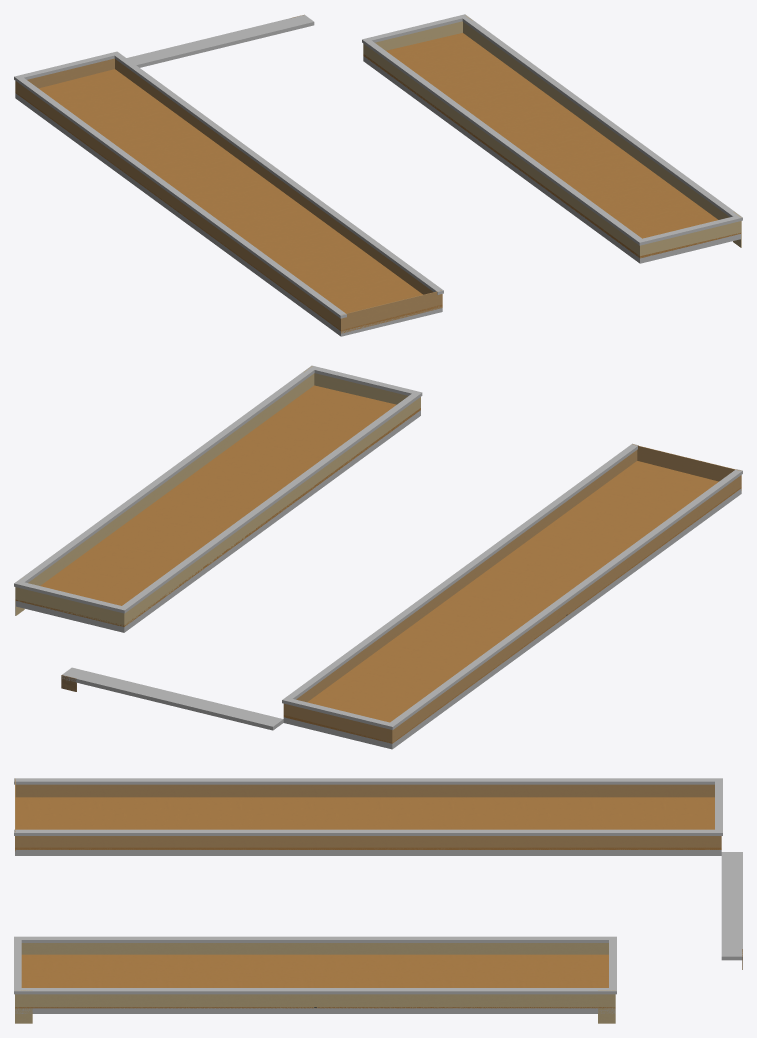
Rendered from roof-bundle-service-south.glb.
The picture shows the model from 3 angles, top to bottom: view 1: azimuth 30°, elevation 25°; view 2: azimuth 150°, elevation 25°; view 3: azimuth 270°, elevation 25°; orthographic projection. The views are drawn at different scales.
Parts seen in each view (by area): view 1: bz06_faded_ochre-receive, ph_bz04_stone_trim_sandstone-cast, bz06_sand_plaster-cast, bz06_pale_lime-cast; view 2: bz06_faded_ochre-receive, ph_bz04_stone_trim_sandstone-cast, bz06_sand_plaster-cast, bz06_pale_lime-cast; view 3: bz06_faded_ochre-receive, ph_bz04_stone_trim_sandstone-cast, bz06_sand_plaster-cast, bz06_pale_lime-cast.
Boxes of the visible parts, left/top/right/bottom form: bz06_faded_ochre-receive: left=15, top=33, right=740, bottom=330; ph_bz04_stone_trim_sandstone-cast: left=14, top=14, right=742, bottom=336; bz06_sand_plaster-cast: left=15, top=58, right=442, bottom=333; bz06_pale_lime-cast: left=363, top=15, right=741, bottom=257; bz06_faded_ochre-receive: left=15, top=385, right=741, bottom=743; ph_bz04_stone_trim_sandstone-cast: left=14, top=365, right=742, bottom=749; bz06_sand_plaster-cast: left=283, top=444, right=741, bottom=743; bz06_pale_lime-cast: left=15, top=366, right=420, bottom=626; bz06_faded_ochre-receive: left=15, top=797, right=721, bottom=1008; ph_bz04_stone_trim_sandstone-cast: left=14, top=778, right=742, bottom=1013; bz06_sand_plaster-cast: left=15, top=778, right=721, bottom=851; bz06_pale_lime-cast: left=15, top=943, right=615, bottom=1023.
Bounding box in the file's own units: 14.26 × 1.03 × 20.63.
Materials: 6 (5 with a texture image).
